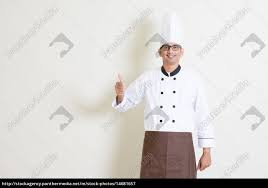Indian_Male: (163, 41, 184, 64)
